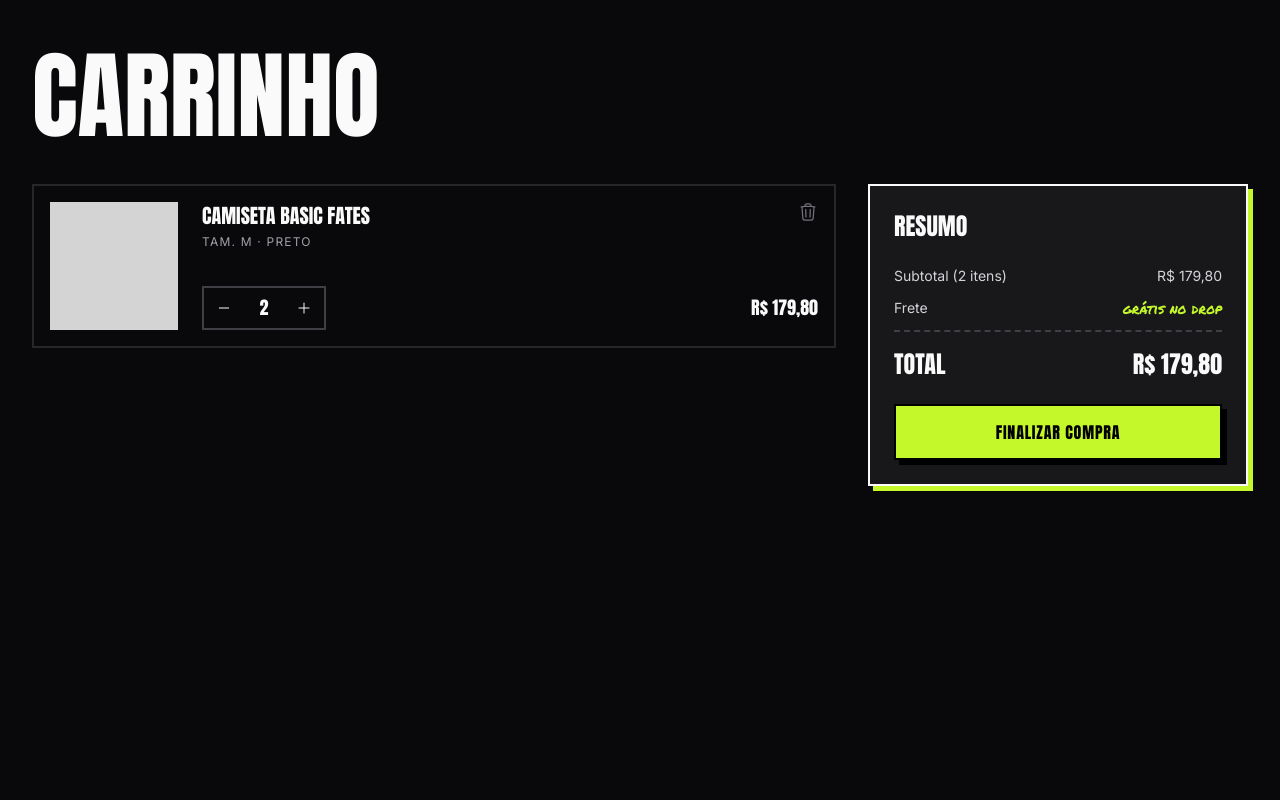
it: Cart page › places the order, clears the cart and shows the confirmation
Click the button "Finalizar compra" at (1058, 432), box [894, 404, 1222, 460]
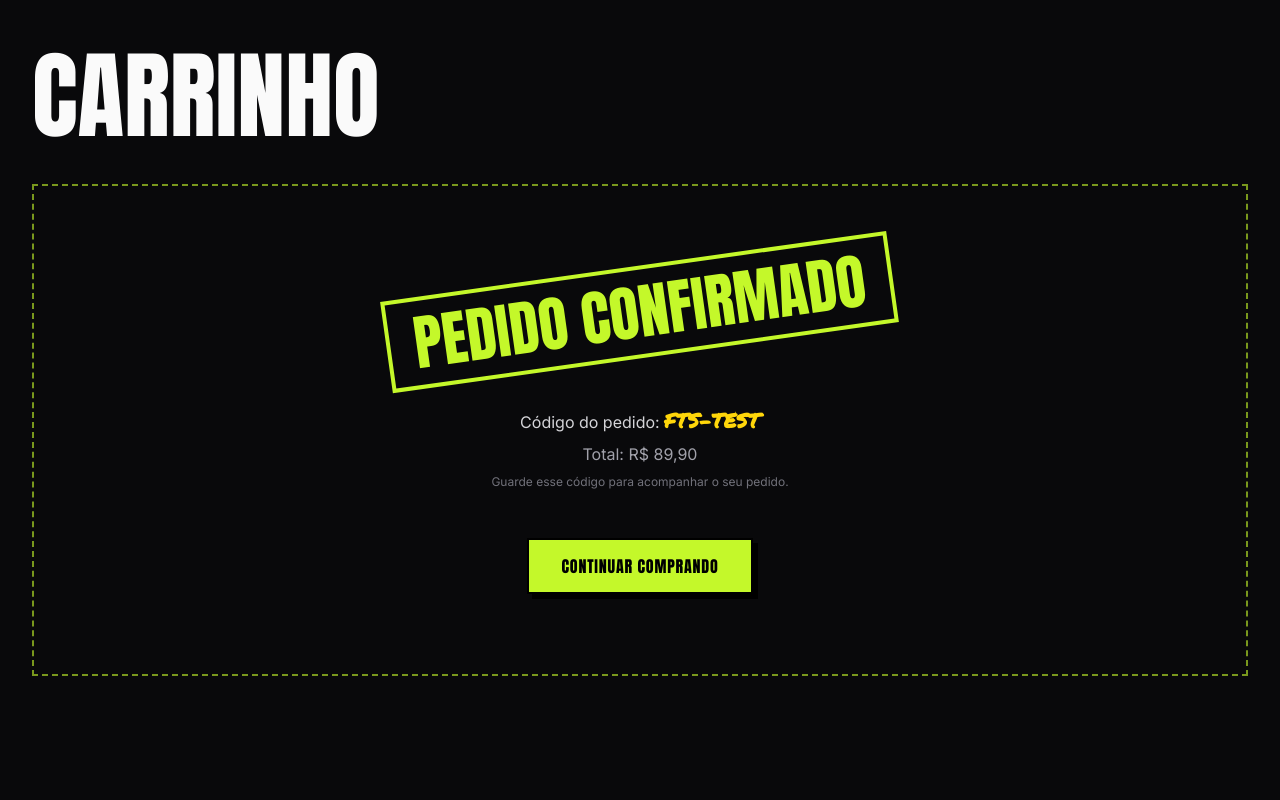
Check: the text with test id "order-code" reads "FTS-TEST", box [664, 406, 760, 434]
